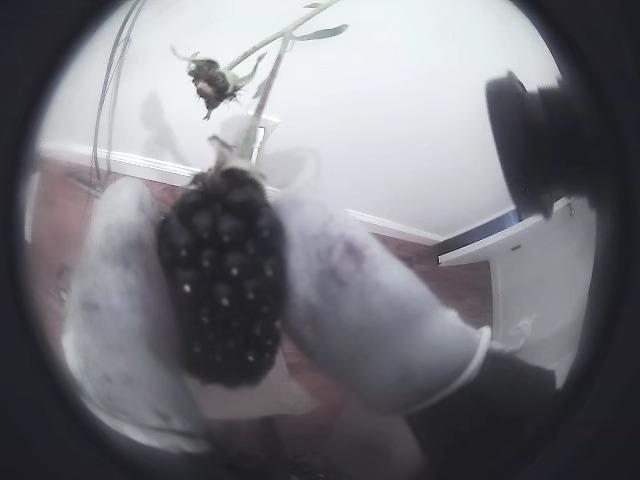berry: (158, 30, 291, 387)
gripper: (273, 193, 490, 415), (62, 180, 202, 450)
lense: (0, 0, 144, 479), (504, 0, 639, 479)
